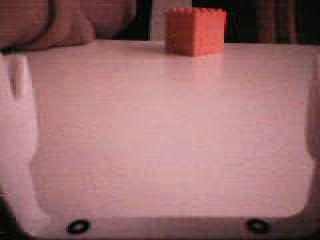legocube: (161, 6, 228, 59)
